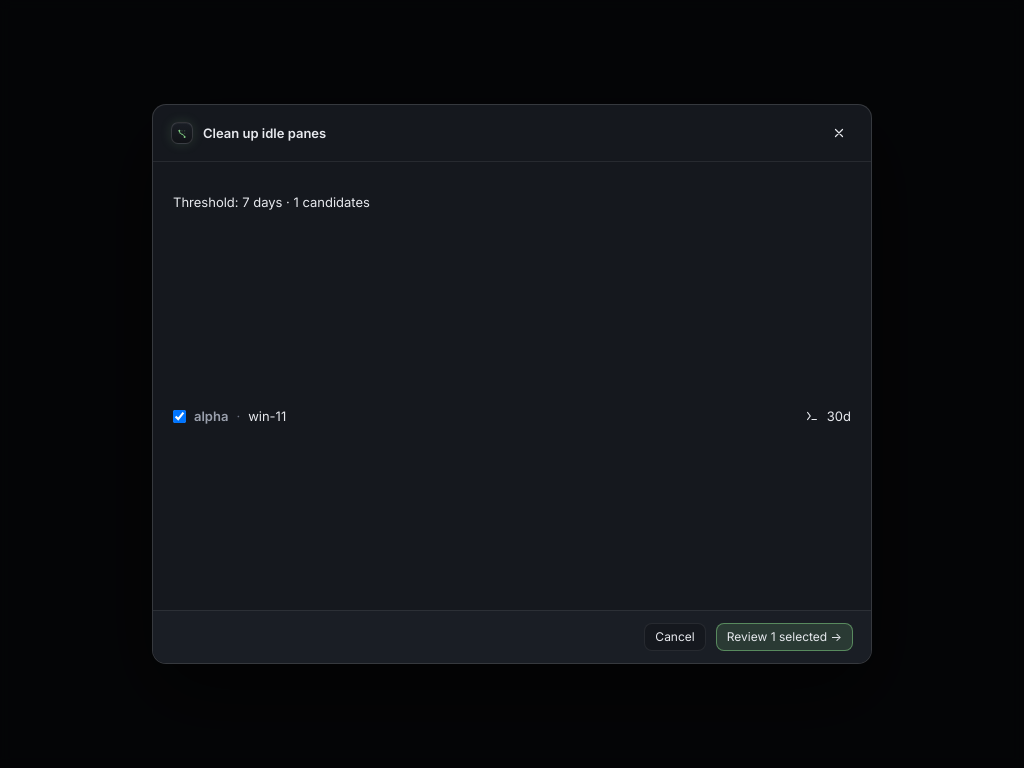
it: CleanupModal — execute + Esc › Esc from Step 2 returns to Step 1 (does NOT close)
The image size is (1024, 768).
Step 1. Click the button "Review 1 selected →" → (784, 637), box x1=716 y1=623 x2=853 y2=651
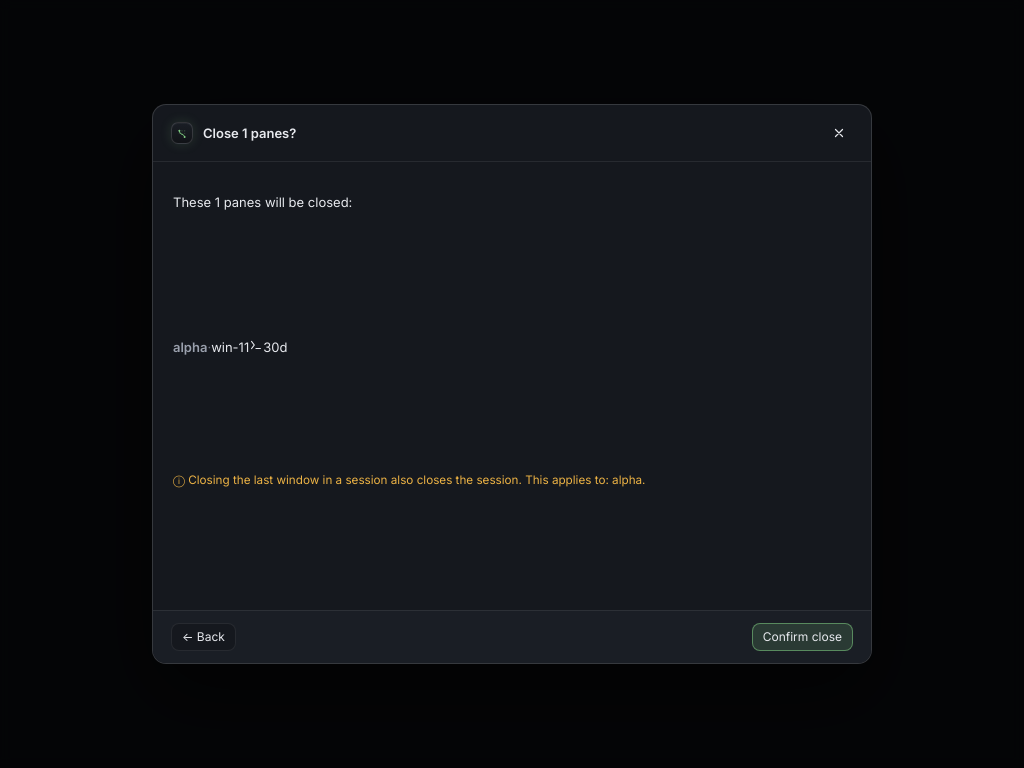
expect the text "Close 1 panes?" is shown: met, box x1=203 y1=124 x2=296 y2=142
Step 2. Press Escape
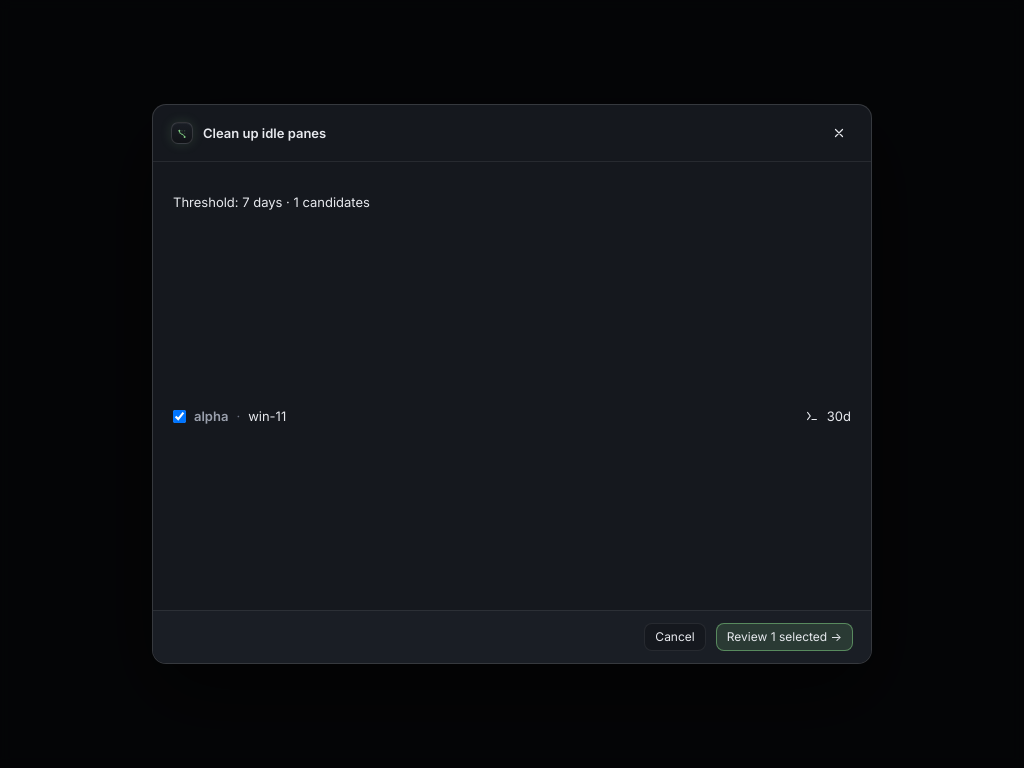
expect the button "Review 1 selected →" is shown: met, box x1=716 y1=623 x2=853 y2=651
expect the text "Close 1 panes?" is gone: met
expect the button "Confirm close" is gone: met
